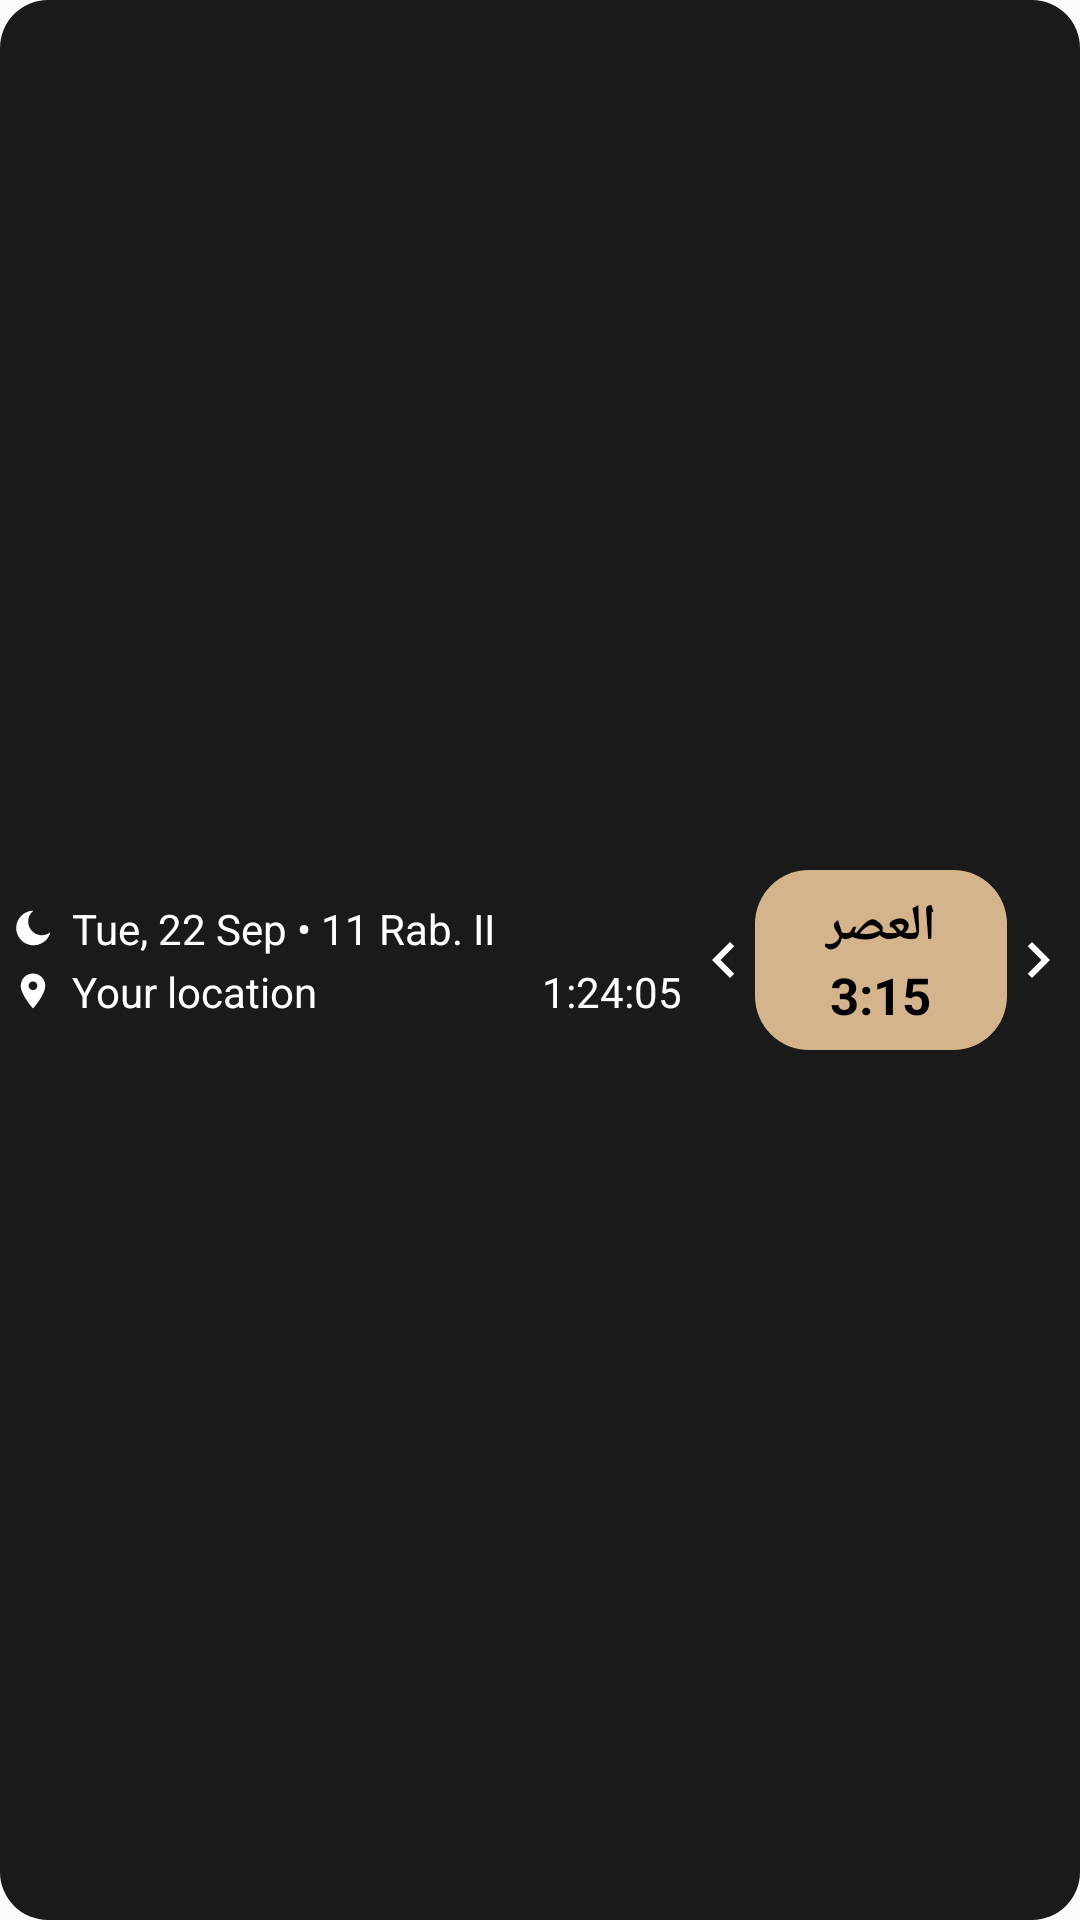

Locate icon controls on the screen. Image size 1080px x 1920px, boxes as bbox=(x1, y1, x2, y2).
widget moon: bbox=(16, 910, 51, 946)
widget pin: bbox=(20, 973, 46, 1008)
